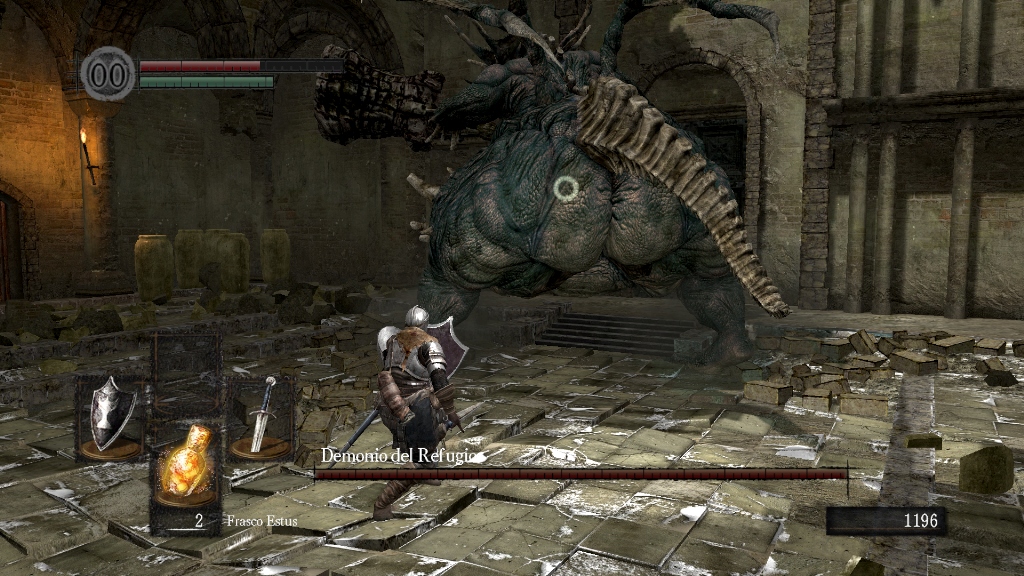asylumDemon: (315, 3, 796, 359)
bossHP: (314, 469, 847, 479)
health: (138, 58, 343, 71)
humanity: (80, 45, 136, 102)
player: (371, 303, 471, 522)
souls: (825, 506, 945, 536)
stamina: (138, 74, 274, 88)
